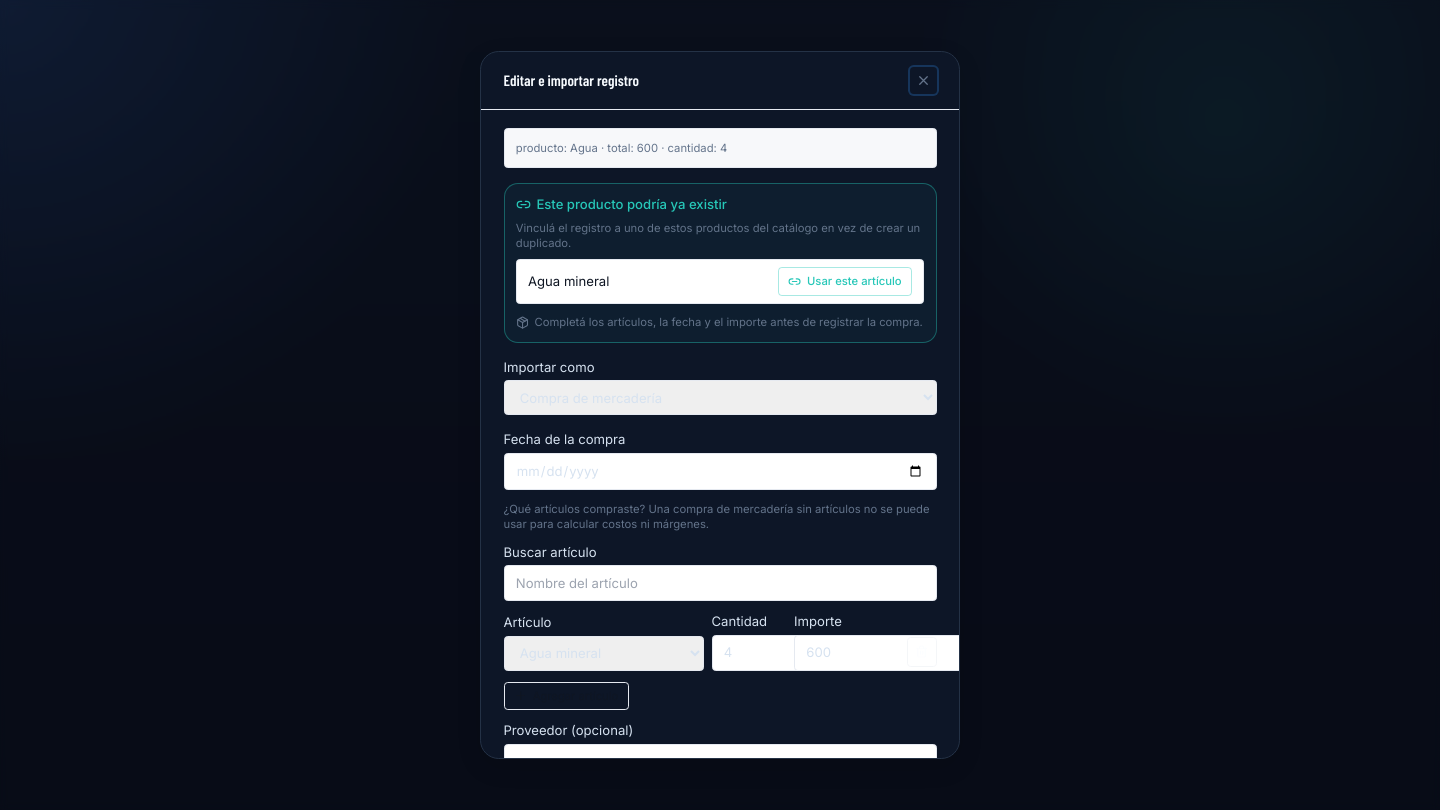
resolución de compra ambigua (B·5b: con sus artículos) › mercadería no se ofrece como categoría de gasto
The width and height of the screenshot is (1440, 810).
Select "Gasto" in the dropdown labelled "Importar como" at x=720, y=398, box top-left (504, 380), bottom-right (936, 415)
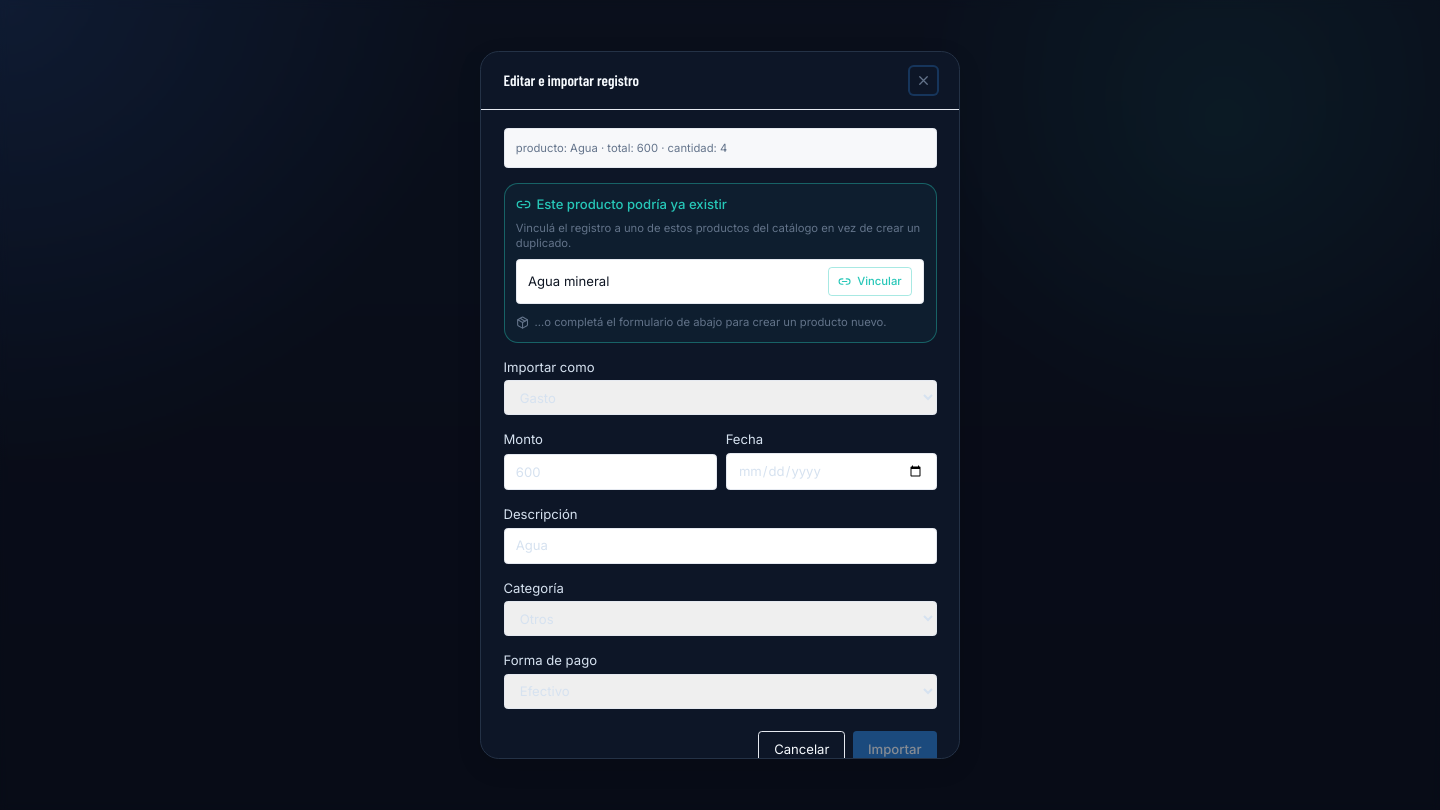
Now the text "mercadería" is gone
